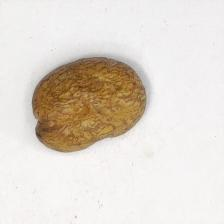NG: (42, 57, 145, 146)
